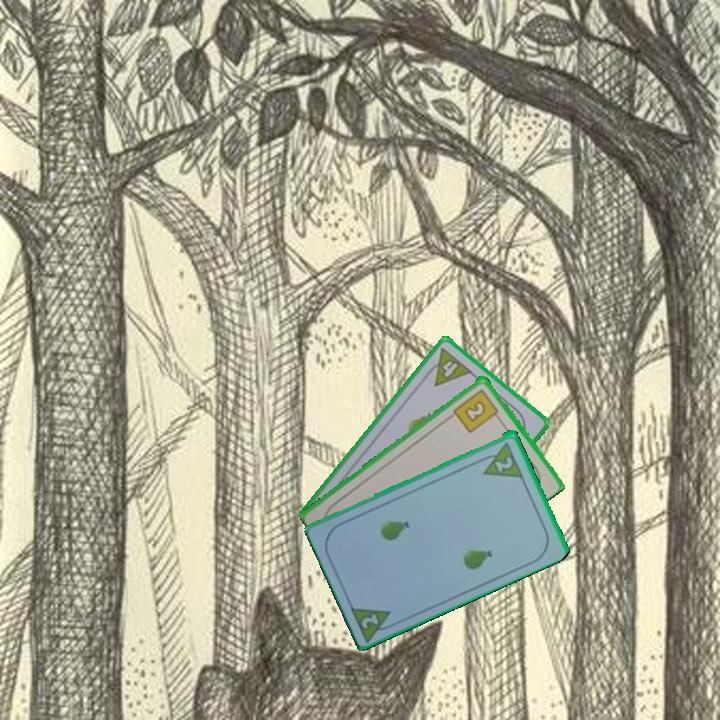2b: (450, 385, 503, 435)
2p: (347, 601, 400, 643), (475, 438, 526, 480)
4p: (421, 344, 475, 389)
